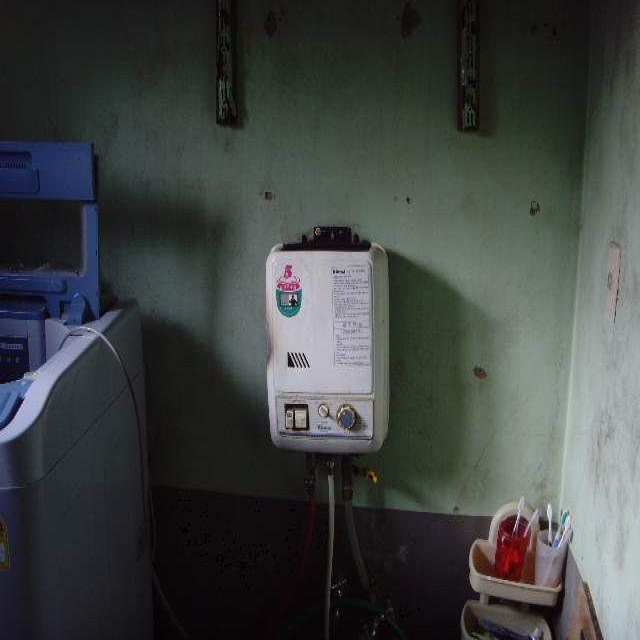Boiler: (242, 230, 410, 492)
